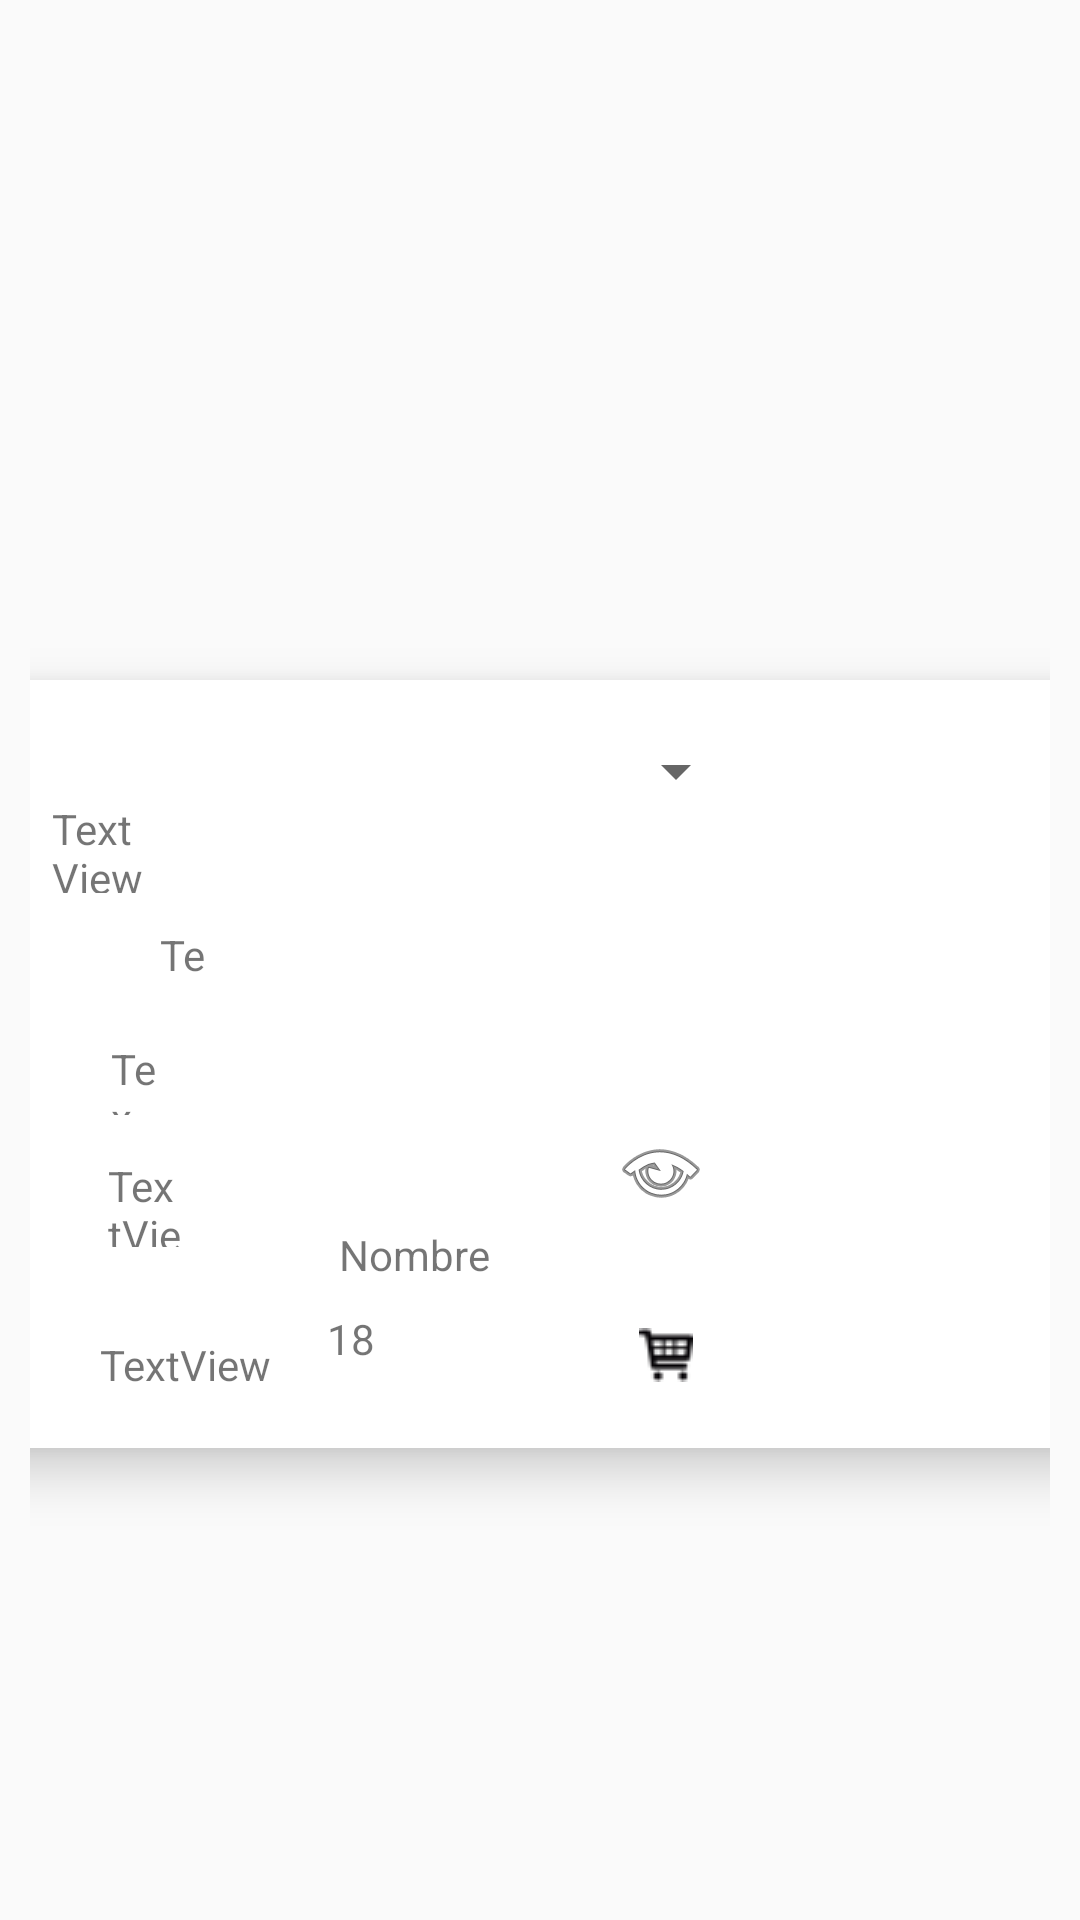

Icons on this 1080*1920 Android screen, each with its box as (left=x1, top=y1, right=x2, bottom=y2):
carrito: (left=639, top=1328, right=693, bottom=1382)
view: (left=622, top=1149, right=700, bottom=1198)
